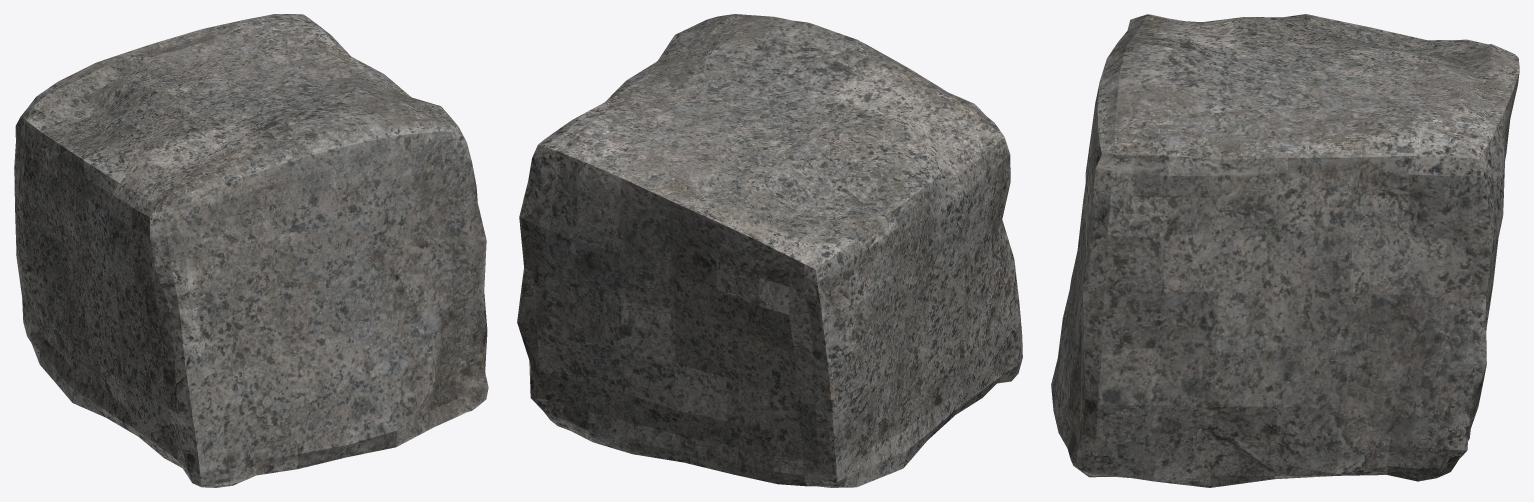
Rendered from rock.gltf.
The picture shows the model from 3 angles, left to right: view 1: azimuth 30°, elevation 25°; view 2: azimuth 150°, elevation 25°; view 3: azimuth 270°, elevation 25°; orthographic projection. The views are drawn at different scales.
Visible parts, largest first — view 1: Paving_Stone_1_LOW_UV+; view 2: Paving_Stone_1_LOW_UV+; view 3: Paving_Stone_1_LOW_UV+.
Part boxes in pixels (bbox=[...]): Paving_Stone_1_LOW_UV+: bbox=[14, 14, 488, 487]; Paving_Stone_1_LOW_UV+: bbox=[517, 14, 1022, 487]; Paving_Stone_1_LOW_UV+: bbox=[1051, 14, 1519, 487].
Bounding box in the file's own units: 2.21 × 2.06 × 2.39.
1 material, 1 textured.
